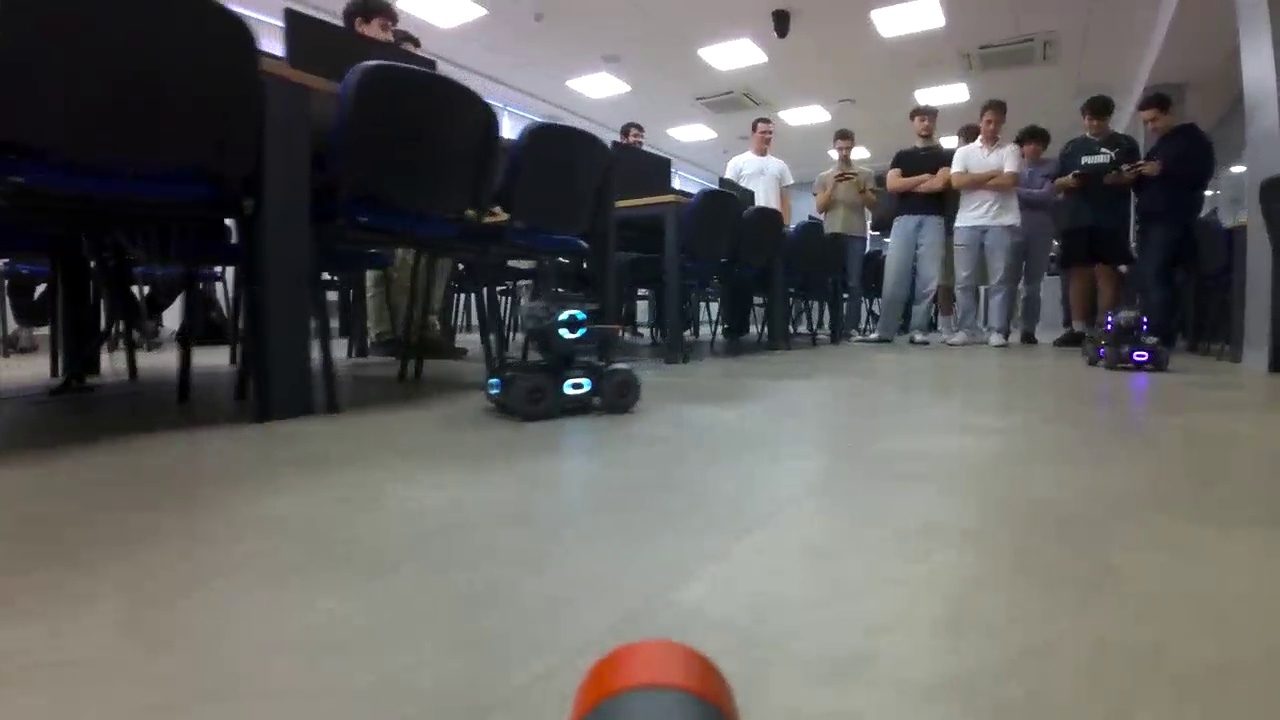robot: (485, 300, 645, 425), (1085, 310, 1171, 376)
